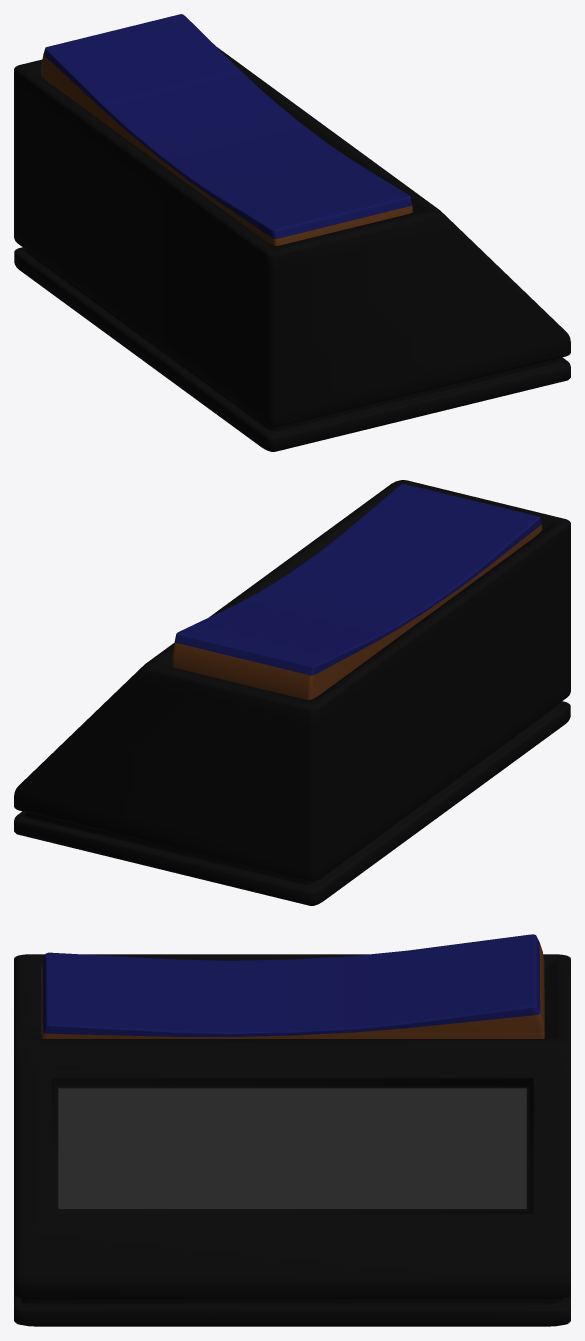
File: Ajedrez.Reloj.Digital.Plastico.fbx
3 renders of one model, top to bottom at view 1: azimuth 30°, elevation 25°; view 2: azimuth 150°, elevation 25°; view 3: azimuth 270°, elevation 25°, orthographic. The views are drawn at different scales.
Visible parts, largest first — view 1: A.R.D.Body.Plastico, A.R.D.Top.Plastico; view 2: A.R.D.Body.Plastico, A.R.D.Top.Plastico; view 3: A.R.D.Body.Plastico, A.R.D.Top.Plastico.
Boxes of the visible parts, x1,y1,x2,y2 form: A.R.D.Body.Plastico: (14, 47, 570, 451); A.R.D.Top.Plastico: (41, 14, 412, 245); A.R.D.Body.Plastico: (14, 480, 570, 905); A.R.D.Top.Plastico: (172, 483, 542, 699); A.R.D.Body.Plastico: (14, 954, 570, 1326); A.R.D.Top.Plastico: (41, 934, 544, 1038).
Bounding box in the file's own units: 0.095 × 0.14 × 0.0676.
